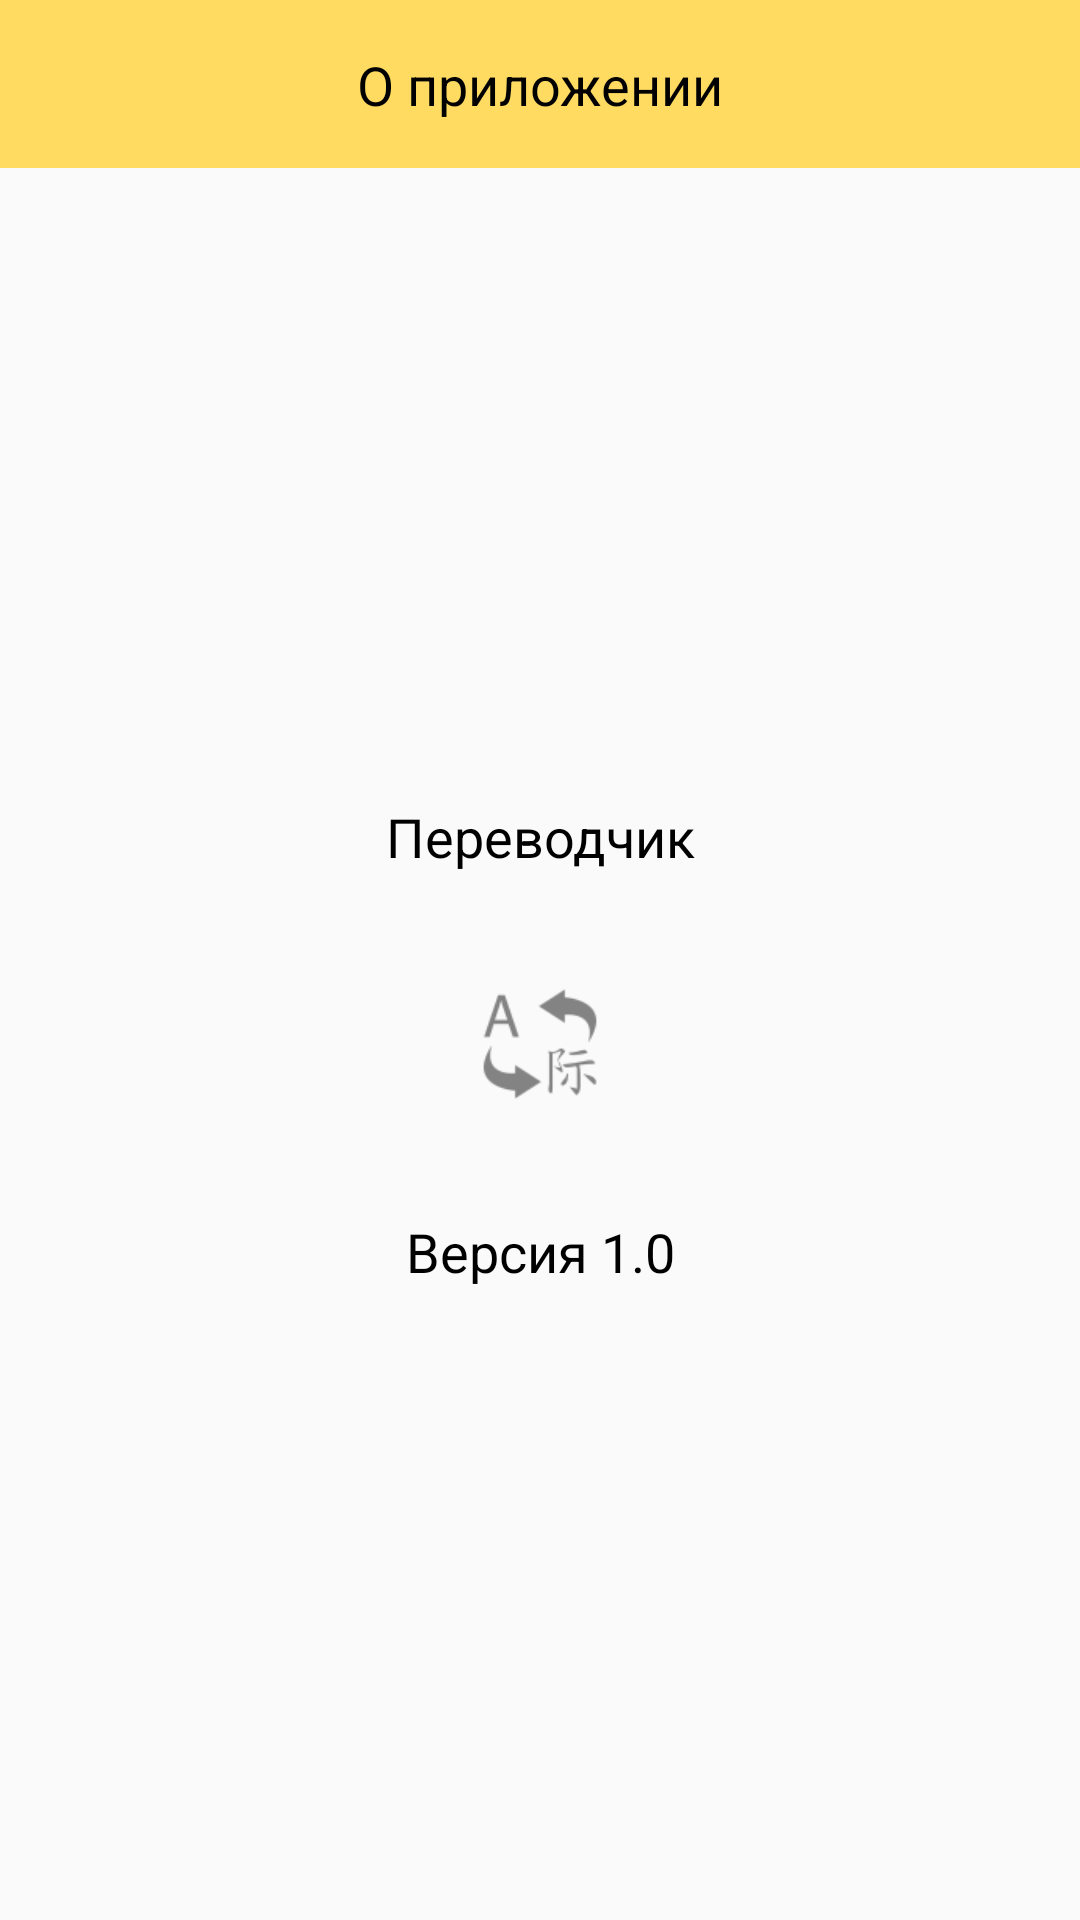

Icons on this 1080 × 1920 Android screen, each with the point to tap as point (x, y):
translation: point (540, 1044)
